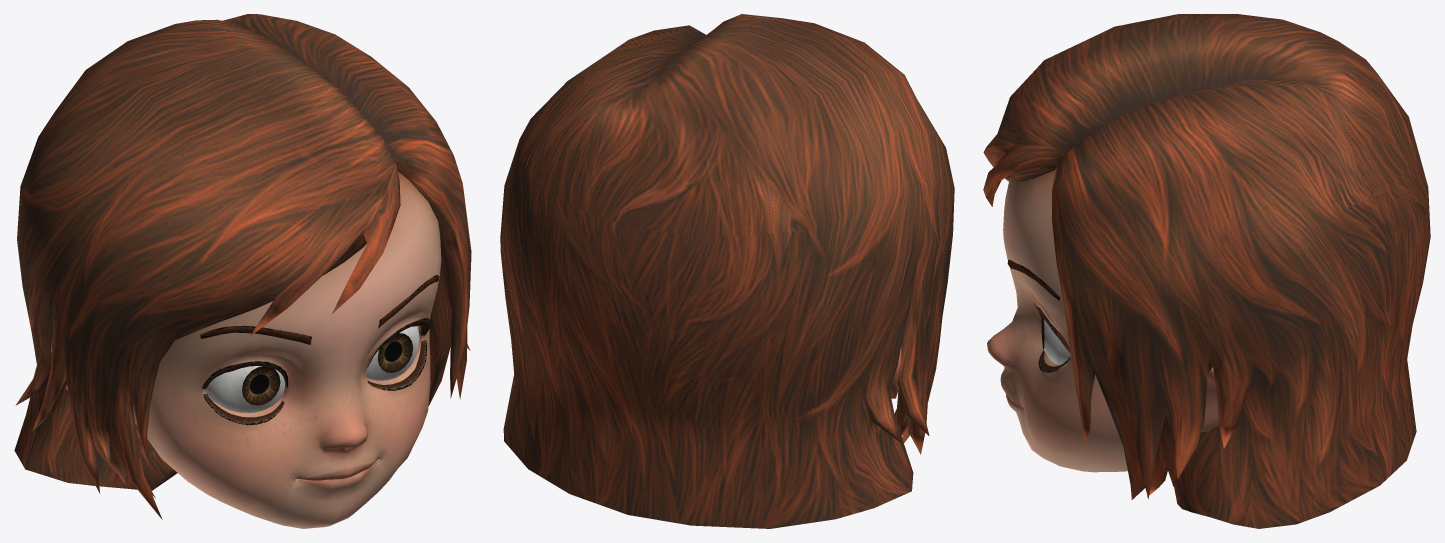
The model's file is bobbledome.glb.
The picture shows the model from 3 angles, left to right: view 1: azimuth 30°, elevation 25°; view 2: azimuth 150°, elevation 25°; view 3: azimuth 270°, elevation 25°; orthographic projection.
Parts seen in each view (by area): view 1: head.004; view 2: head.004; view 3: head.004.
Part boxes in pixels (box(x1,y1,x2,y2)): head.004: box(14, 14, 471, 528); head.004: box(500, 14, 954, 528); head.004: box(983, 14, 1430, 528).
Bounding box in the file's own units: 0.8345 × 0.8209 × 0.7832.
9 materials, 9 textured.
